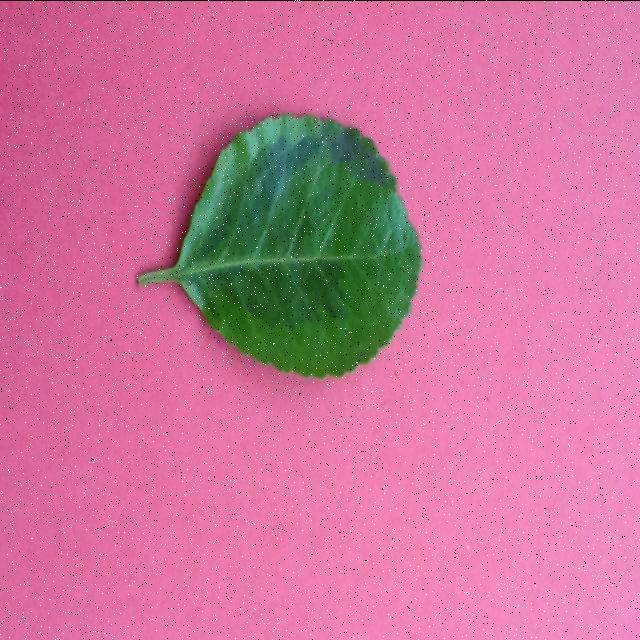foliage: (135, 107, 427, 373)
